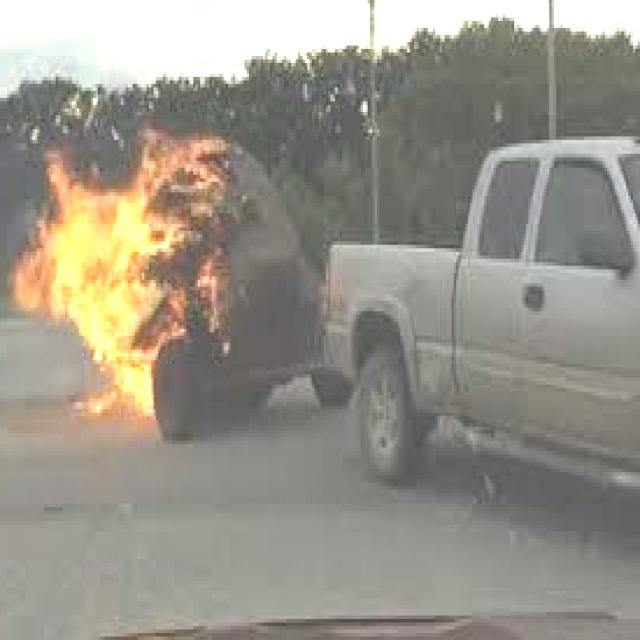fire: (16, 119, 247, 437)
